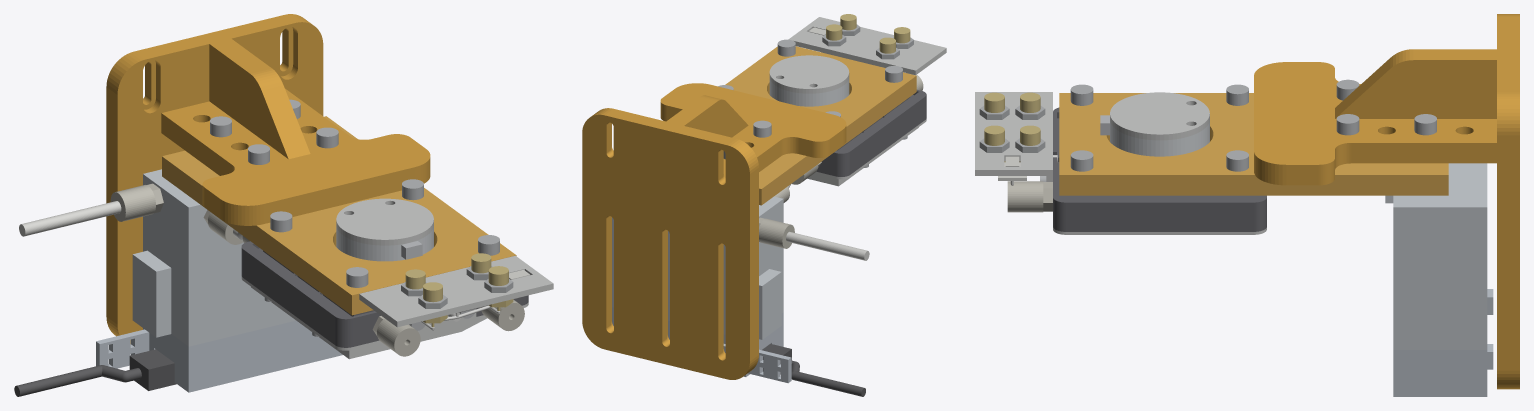
3 views of the same model, side by side, from view 1: azimuth 30°, elevation 25°; view 2: azimuth 150°, elevation 25°; view 3: azimuth 270°, elevation 25° (orthographic). The views are drawn at different scales.
Visible parts, largest first — view 1: Grace 2025 앵글 브래킷 "angle bracket for Ramen holder.STEP" (형상 , [배기 블록 v2] 배기 센서 블록 본체 PETG 60x29x48.5 (가스 몸 17.5 + 센서 칸 31,, Grace 새 세로판 60x120x7 (재출력, 레진 가정), Ø4.5 x4 48x48, 가운데 Ø33 구멍, [배기 블록 v2] 덮개 PETG 60x29x16 (판 2 + Pico 트레이 14): Pico 보스 4, , 셀 몸체 Al 6061 흑색 아노다이징 70x66x10 R4 (포켓 31x31x4.5 R1.5, 블록 자리 , 커넥터 브래킷 Al (밑판 26x18x2 + 판 57x24x2): SMA 구멍 Ø6.5 x4 (3열 x 2행, 퍽 Al 방열 원판 Ø30.8x2 (가정, PETG 벽 끝에 2액형 에폭시), 나사 공구 구멍 Ø3.2 x2, [배기 블록 v2] USB 케이블 (노트북으로, 타이로 선반에 고정; 노트북은 허치 안 가능), 가스 KQ2H04-M5 x2 윗면 (+X 입구, −X 예비 N2/He), Ø2 → 앞면 (±19, +22), SMA 암 판넬 잭 x4 (SAMZO SMA-KY-214형, 가정): 육각 어깨 AF 8 x 3 (판 앞),, M4x12 렌치볼트 x4 (판 뒤에서 몸체 M4 탭으로, 머리 Ø7x4), 텐트 틀 Al: 플랜지 1.0 (몸체 외곽, 안쪽 X -28.5…24.9, Z ±28.5) + 벽 2.5,  (+6 smaller); view 2: Grace 2025 앵글 브래킷 "angle bracket for Ramen holder.STEP" (형상 , Grace 새 세로판 60x120x7 (재출력, 레진 가정), Ø4.5 x4 48x48, 가운데 Ø33 구멍, 셀 몸체 Al 6061 흑색 아노다이징 70x66x10 R4 (포켓 31x31x4.5 R1.5, 블록 자리 , 커넥터 브래킷 Al (밑판 26x18x2 + 판 57x24x2): SMA 구멍 Ø6.5 x4 (3열 x 2행, [배기 블록 v2] 배기 센서 블록 본체 PETG 60x29x48.5 (가스 몸 17.5 + 센서 칸 31,, 퍽 Al 방열 원판 Ø30.8x2 (가정, PETG 벽 끝에 2액형 에폭시), 나사 공구 구멍 Ø3.2 x2, [배기 블록 v2] 덮개 PETG 60x29x16 (판 2 + Pico 트레이 14): Pico 보스 4, , 뒤 빛 퍽 PETG Ø30.8 (앞 플랜지 2 = 앞 턱 0.5 (Ø19) + 뒤 자리 Ø20.4x1.5, , [배기 블록 v2] USB 케이블 (노트북으로, 타이로 선반에 고정; 노트북은 허치 안 가능), SMA 암 판넬 잭 x4 (SAMZO SMA-KY-214형, 가정): 육각 어깨 AF 8 x 3 (판 앞),, [배기 블록 v2] 배출 PU 관 Ø4 (토막만 그림, 실제 >= 300 mm), [배기 블록 v2] KQ2H04-M5 출구 (-X 끝면, 배출 관 >= 30 cm) (+4 smaller); view 3: Grace 2025 앵글 브래킷 "angle bracket for Ramen holder.STEP" (형상 , Grace 새 세로판 60x120x7 (재출력, 레진 가정), Ø4.5 x4 48x48, 가운데 Ø33 구멍, [배기 블록 v2] 배기 센서 블록 본체 PETG 60x29x48.5 (가스 몸 17.5 + 센서 칸 31,, 셀 몸체 Al 6061 흑색 아노다이징 70x66x10 R4 (포켓 31x31x4.5 R1.5, 블록 자리 , [배기 블록 v2] 덮개 PETG 60x29x16 (판 2 + Pico 트레이 14): Pico 보스 4, , 커넥터 브래킷 Al (밑판 26x18x2 + 판 57x24x2): SMA 구멍 Ø6.5 x4 (3열 x 2행, 퍽 Al 방열 원판 Ø30.8x2 (가정, PETG 벽 끝에 2액형 에폭시), 나사 공구 구멍 Ø3.2 x2, M4x12 렌치볼트 x4 (판 뒤에서 몸체 M4 탭으로, 머리 Ø7x4), 뒤 빛 퍽 PETG Ø30.8 (앞 플랜지 2 = 앞 턱 0.5 (Ø19) + 뒤 자리 Ø20.4x1.5, , SMA 암 판넬 잭 x4 (SAMZO SMA-KY-214형, 가정): 육각 어깨 AF 8 x 3 (판 앞),, 가스 KQ2H04-M5 x2 윗면 (+X 입구, −X 예비 N2/He), Ø2 → 앞면 (±19, +22), M4x16 볼트 + 너트 x4 (판 아래 구멍 ↔ 브래킷 세움판 Ø5.6 구멍 y 29/53) (+2 smaller).
Part boxes in pixels (box(x1,y1,x2,y2)): Grace 2025 앵글 브래킷 "angle bracket for Ramen holder.STEP" (형상 : box(106, 14, 430, 343); [배기 블록 v2] 배기 센서 블록 본체 PETG 60x29x48.5 (가스 몸 17.5 + 센서 칸 31,: box(132, 169, 295, 346); Grace 새 세로판 60x120x7 (재출력, 레진 가정), Ø4.5 x4 48x48, 가운데 Ø33 구멍: box(162, 116, 516, 315); [배기 블록 v2] 덮개 PETG 60x29x16 (판 2 + Pico 트레이 14): Pico 보스 4, : box(96, 320, 342, 392); 셀 몸체 Al 6061 흑색 아노다이징 70x66x10 R4 (포켓 31x31x4.5 R1.5, 블록 자리 : box(241, 241, 528, 347); 커넥터 브래킷 Al (밑판 26x18x2 + 판 57x24x2): SMA 구멍 Ø6.5 x4 (3열 x 2행: box(359, 255, 553, 333); 퍽 Al 방열 원판 Ø30.8x2 (가정, PETG 벽 끝에 2액형 에폭시), 나사 공구 구멍 Ø3.2 x2: box(336, 198, 433, 245); [배기 블록 v2] USB 케이블 (노트북으로, 타이로 선반에 고정; 노트북은 허치 안 가능): box(14, 349, 176, 396); 가스 KQ2H04-M5 x2 윗면 (+X 입구, −X 예비 N2/He), Ø2 → 앞면 (±19, +22): box(372, 299, 524, 356); SMA 암 판넬 잭 x4 (SAMZO SMA-KY-214형, 가정): 육각 어깨 AF 8 x 3 (판 앞),: box(405, 253, 513, 327); M4x12 렌치볼트 x4 (판 뒤에서 몸체 M4 탭으로, 머리 Ø7x4): box(270, 179, 499, 287); 텐트 틀 Al: 플랜지 1.0 (몸체 외곽, 안쪽 X -28.5…24.9, Z ±28.5) + 벽 2.5, : box(241, 276, 528, 358); Grace 2025 앵글 브래킷 "angle bracket for Ramen holder.STEP" (형상 : box(582, 83, 846, 379); Grace 새 세로판 60x120x7 (재출력, 레진 가정), Ø4.5 x4 48x48, 가운데 Ø33 구멍: box(725, 46, 916, 205); 셀 몸체 Al 6061 흑색 아노다이징 70x66x10 R4 (포켓 31x31x4.5 R1.5, 블록 자리 : box(816, 89, 926, 176); 커넥터 브래킷 Al (밑판 26x18x2 + 판 57x24x2): SMA 구멍 Ø6.5 x4 (3열 x 2행: box(788, 17, 946, 75); [배기 블록 v2] 배기 센서 블록 본체 PETG 60x29x48.5 (가스 몸 17.5 + 센서 칸 31,: box(612, 196, 783, 339); 퍽 Al 방열 원판 Ø30.8x2 (가정, PETG 벽 끝에 2액형 에폭시), 나사 공구 구멍 Ø3.2 x2: box(769, 55, 849, 93); [배기 블록 v2] 덮개 PETG 60x29x16 (판 2 + Pico 트레이 14): Pico 보스 4, : box(612, 307, 791, 383); 뒤 빛 퍽 PETG Ø30.8 (앞 플랜지 2 = 앞 턱 0.5 (Ø19) + 뒤 자리 Ø20.4x1.5, : box(769, 78, 849, 106); [배기 블록 v2] USB 케이블 (노트북으로, 타이로 선반에 고정; 노트북은 허치 안 가능): box(762, 344, 865, 396); SMA 암 판넬 잭 x4 (SAMZO SMA-KY-214형, 가정): 육각 어깨 AF 8 x 3 (판 앞),: box(826, 14, 910, 67); [배기 블록 v2] 배출 PU 관 Ø4 (토막만 그림, 실제 >= 300 mm): box(786, 231, 869, 260); [배기 블록 v2] KQ2H04-M5 출구 (-X 끝면, 배출 관 >= 30 cm): box(759, 217, 794, 248); Grace 2025 앵글 브래킷 "angle bracket for Ramen holder.STEP" (형상 : box(1254, 14, 1519, 389); Grace 새 세로판 60x120x7 (재출력, 레진 가정), Ø4.5 x4 48x48, 가운데 Ø33 구멍: box(1059, 93, 1448, 195); [배기 블록 v2] 배기 센서 블록 본체 PETG 60x29x48.5 (가스 몸 17.5 + 센서 칸 31,: box(1385, 163, 1487, 349); 셀 몸체 Al 6061 흑색 아노다이징 70x66x10 R4 (포켓 31x31x4.5 R1.5, 블록 자리 : box(1053, 107, 1266, 231); [배기 블록 v2] 덮개 PETG 60x29x16 (판 2 + Pico 트레이 14): Pico 보스 4, : box(1393, 289, 1493, 396); 커넥터 브래킷 Al (밑판 26x18x2 + 판 57x24x2): SMA 구멍 Ø6.5 x4 (3열 x 2행: box(975, 92, 1052, 181); 퍽 Al 방열 원판 Ø30.8x2 (가정, PETG 벽 끝에 2액형 에폭시), 나사 공구 구멍 Ø3.2 x2: box(1110, 92, 1209, 140); M4x12 렌치볼트 x4 (판 뒤에서 몸체 M4 탭으로, 머리 Ø7x4): box(1070, 84, 1248, 171); 뒤 빛 퍽 PETG Ø30.8 (앞 플랜지 2 = 앞 턱 0.5 (Ø19) + 뒤 자리 Ø20.4x1.5, : box(1110, 120, 1209, 156); SMA 암 판넬 잭 x4 (SAMZO SMA-KY-214형, 가정): 육각 어깨 AF 8 x 3 (판 앞),: box(984, 92, 1040, 162); 가스 KQ2H04-M5 x2 윗면 (+X 입구, −X 예비 N2/He), Ø2 → 앞면 (±19, +22): box(1007, 181, 1052, 212); M4x16 볼트 + 너트 x4 (판 아래 구멍 ↔ 브래킷 세움판 Ø5.6 구멍 y 29/53): box(1336, 79, 1436, 135).
Bounding box in the file's own units: 117 × 104 × 168.
